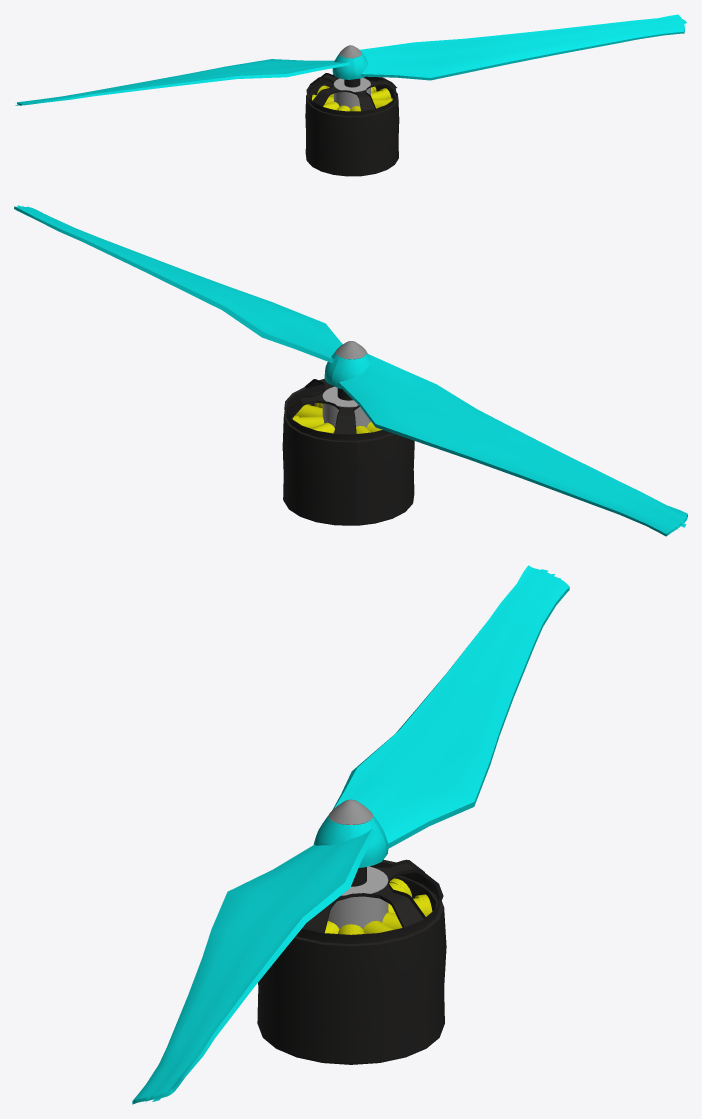
Rendered from motor_type_11.fbx.
3 views of the same model, one above another, from view 1: azimuth 30°, elevation 25°; view 2: azimuth 150°, elevation 25°; view 3: azimuth 270°, elevation 25° (orthographic). The views are drawn at different scales.
Visible parts, largest first — view 1: polySurface34, pCylinder33, pCylinder32; view 2: polySurface34, pCylinder33, pCylinder32; view 3: polySurface34, pCylinder33, pCylinder32, polySurface33.
Part boxes in pixels (x1,y1,x2,y2): polySurface34: (15, 14, 686, 105); pCylinder33: (305, 73, 399, 176); pCylinder32: (333, 78, 370, 108); polySurface34: (14, 205, 687, 536); pCylinder33: (282, 378, 414, 525); pCylinder32: (322, 386, 370, 427); polySurface34: (132, 565, 569, 1104); pCylinder33: (257, 859, 446, 1064); pCylinder32: (328, 866, 388, 928); polySurface33: (328, 799, 373, 824).
Size of the model in its own units: 17.81 by 3.32 by 5.89.
